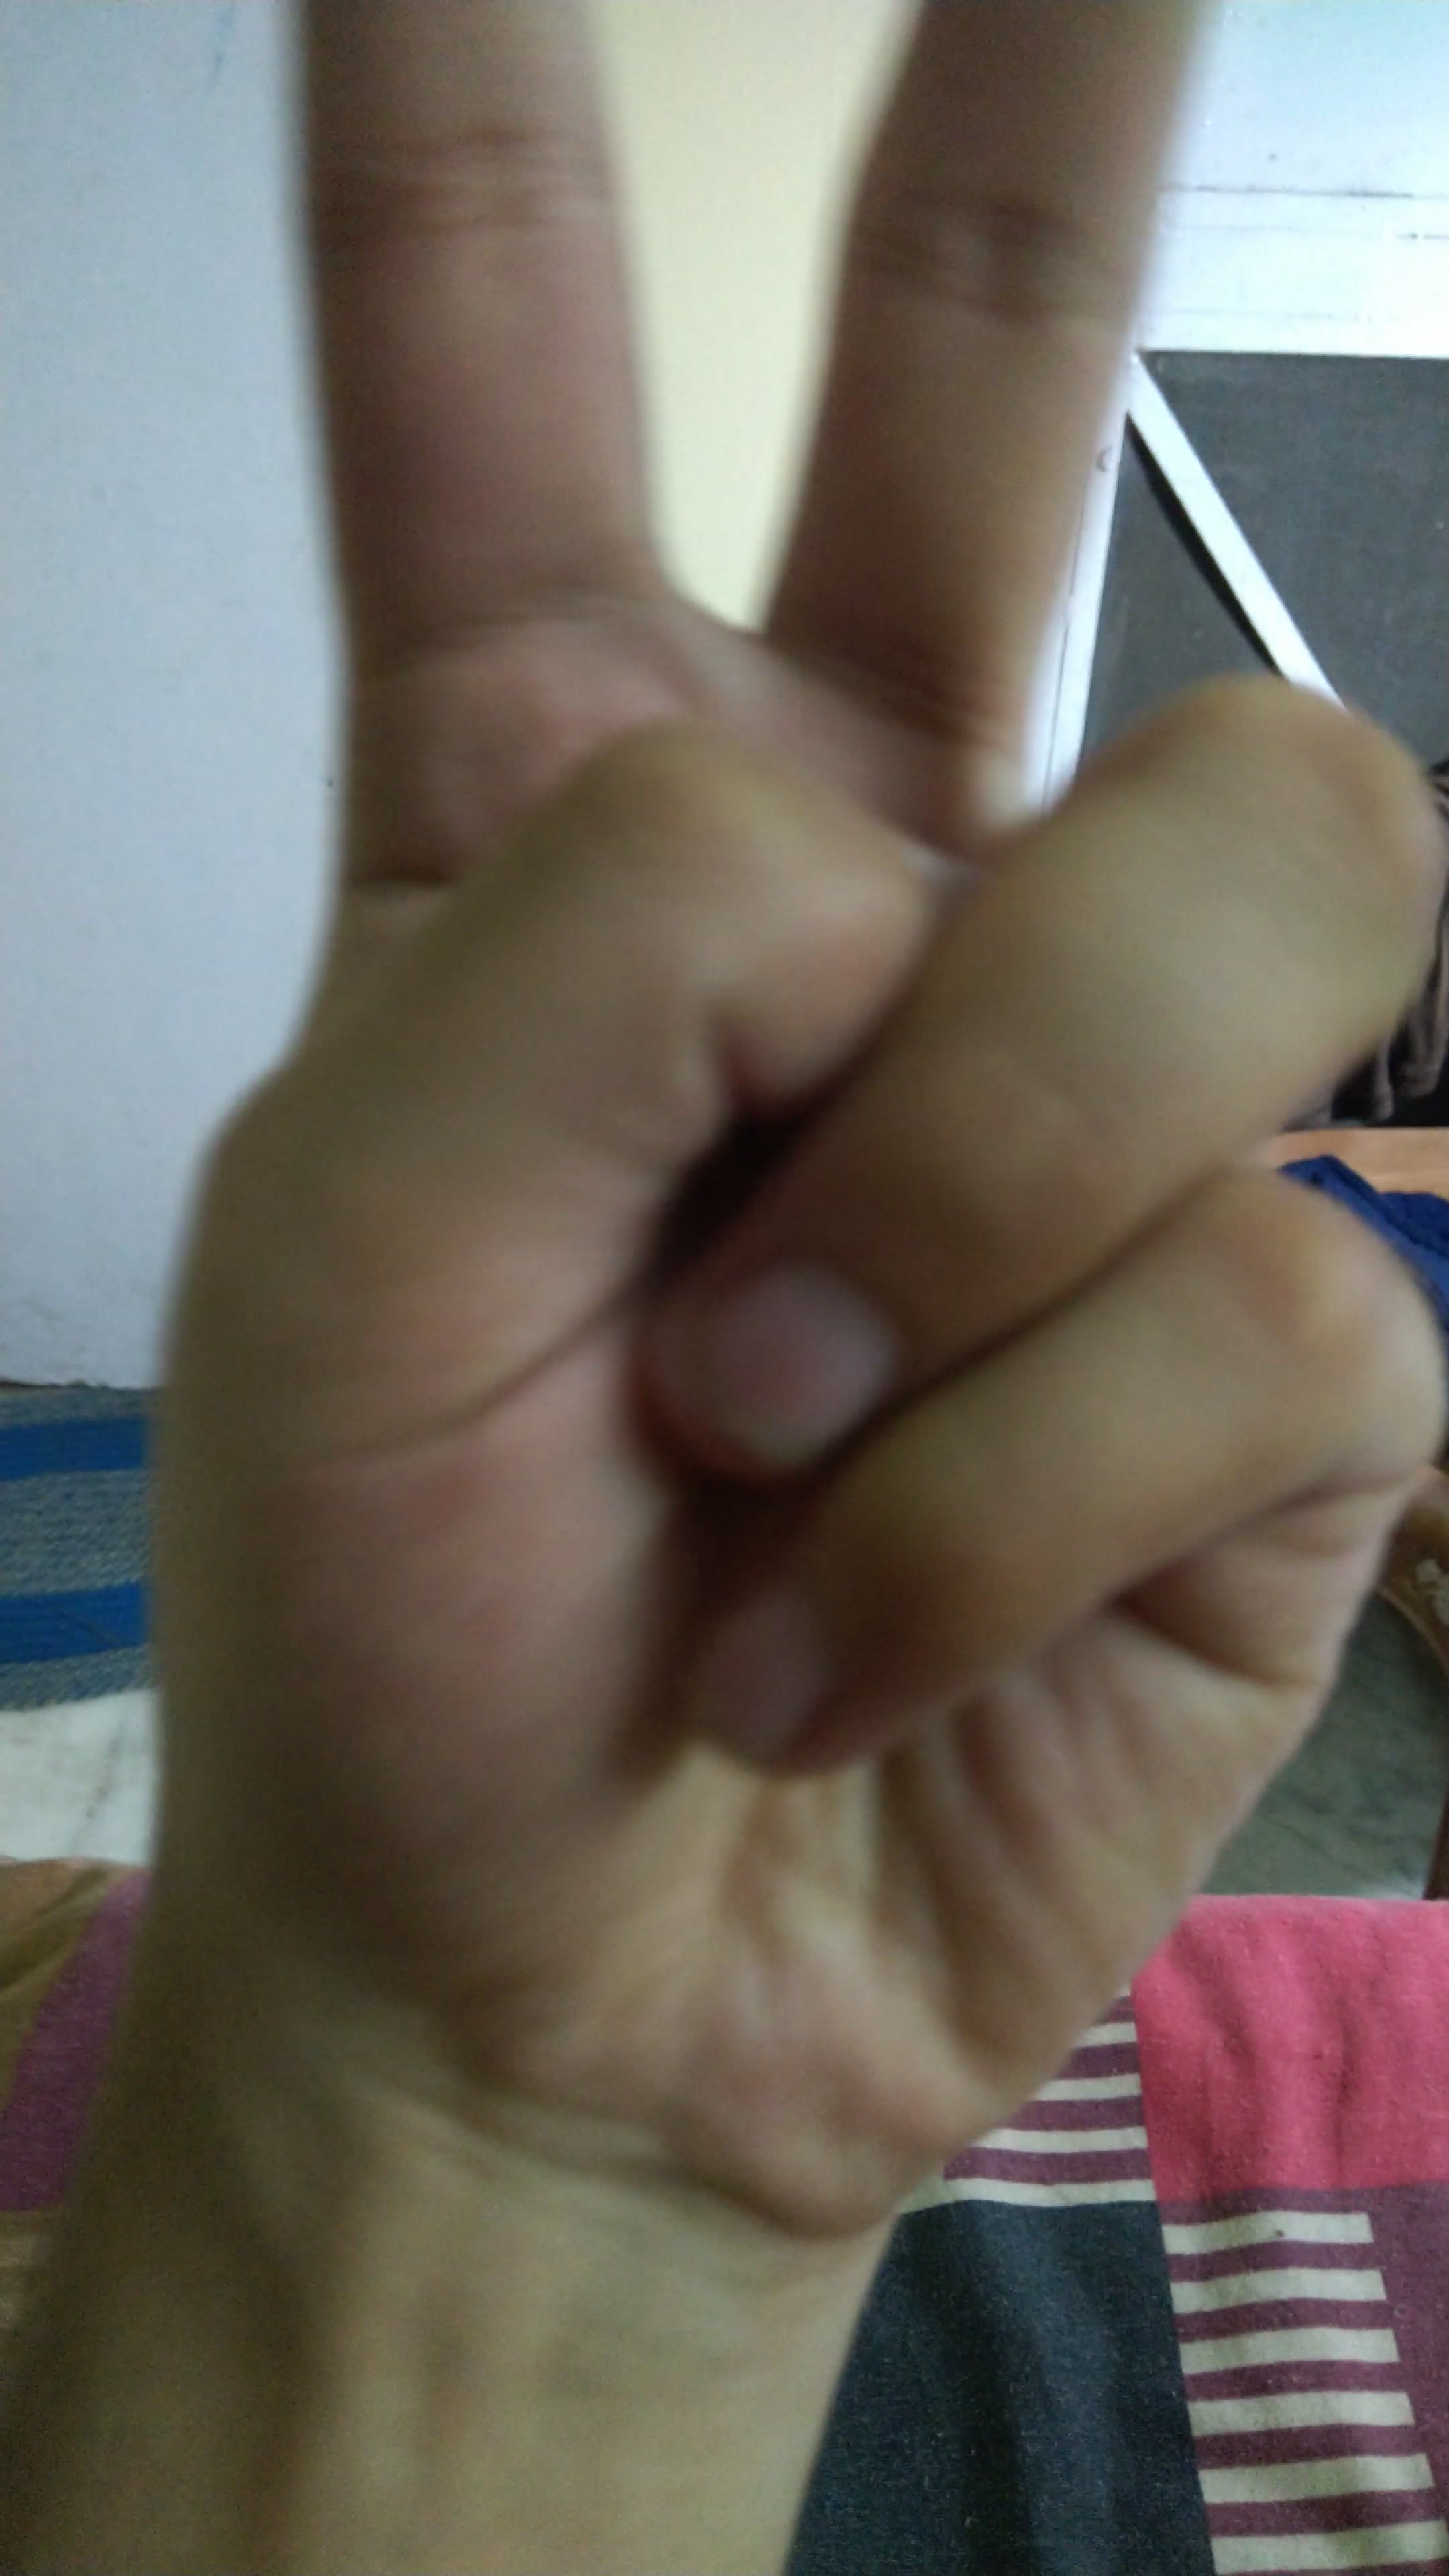hand: (113, 12, 1401, 2277)
